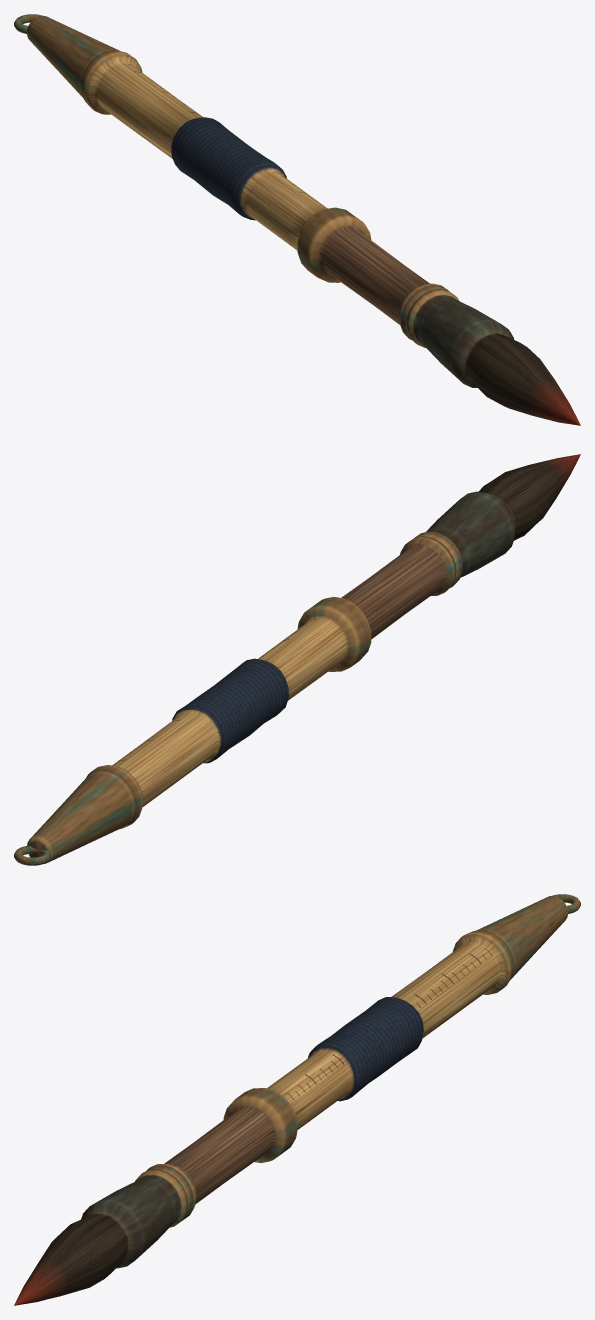
The model's file is MoGuiPen.fbx.
3 views of the same model, one above another, from view 1: azimuth 30°, elevation 25°; view 2: azimuth 150°, elevation 25°; view 3: azimuth 330°, elevation 25° (orthographic).
Visible parts, largest first — view 1: MoGuiPen_LOD0; view 2: MoGuiPen_LOD0; view 3: MoGuiPen_LOD0.
Boxes of the visible parts, <box> form: MoGuiPen_LOD0: <box>14,14,580,425</box>; MoGuiPen_LOD0: <box>14,454,580,865</box>; MoGuiPen_LOD0: <box>14,894,580,1305</box>.
Size of what is drawn, in the model's own units: 0.0157 by 0.0157 by 0.2438.
1 material, 1 textured.
